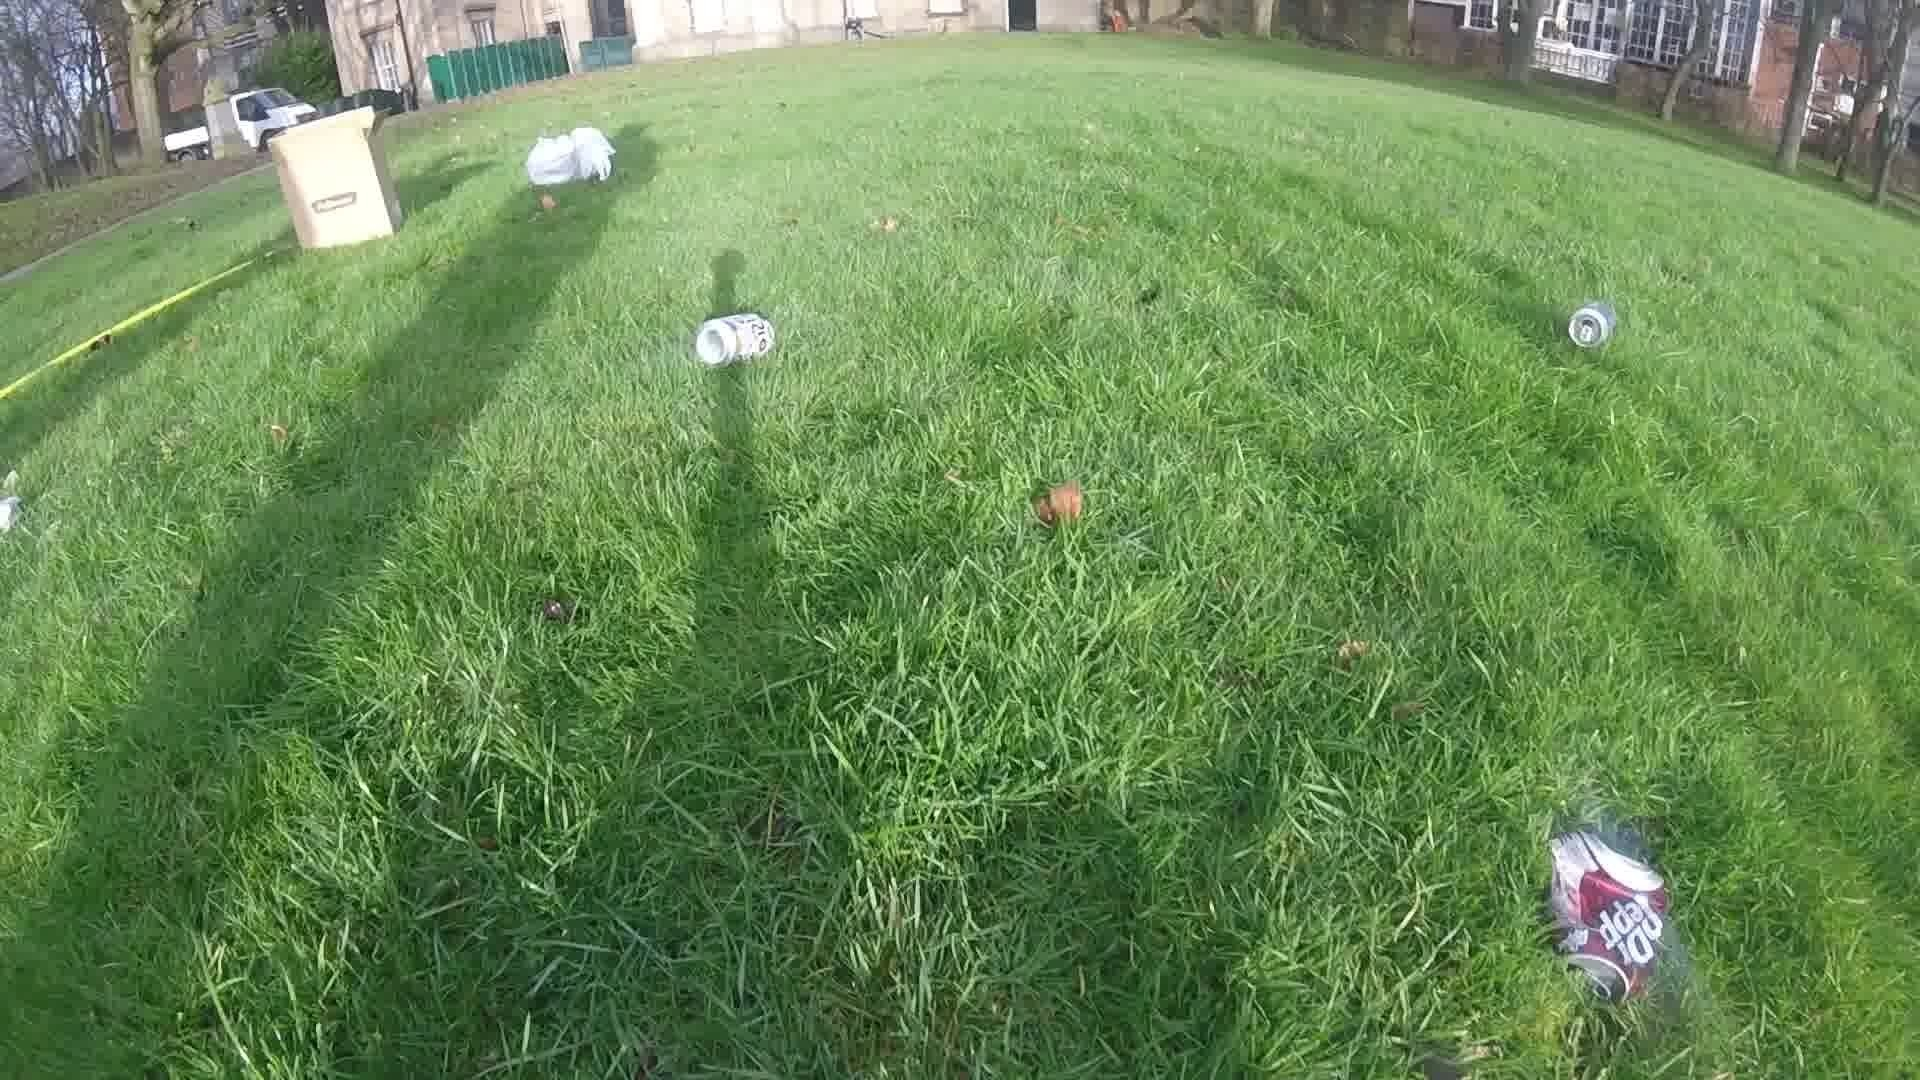litter: (1542, 827, 1669, 1007), (270, 109, 404, 247), (527, 131, 617, 189), (694, 311, 779, 367), (1565, 302, 1618, 351)
